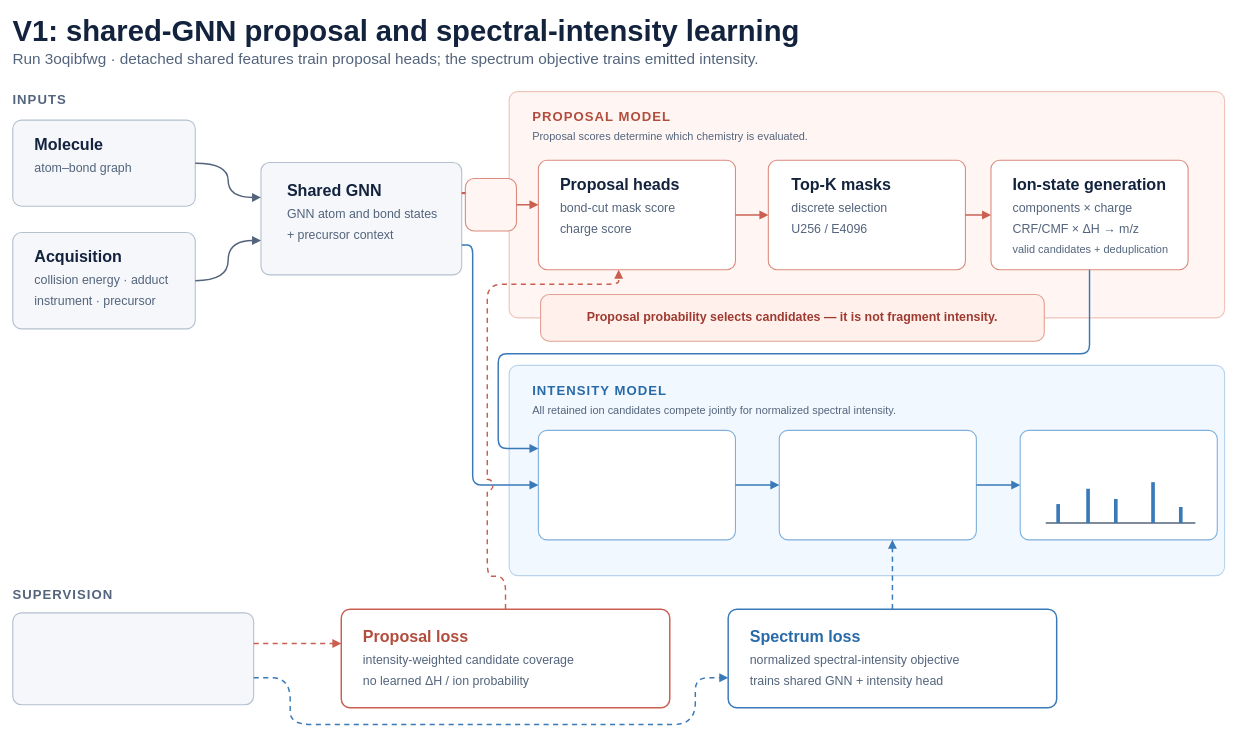
Some shapes in this 1238 by 744 pixel diagram are drawn without their labels. The centre of each missing label's shape, as x and y in pixels:
"Candidate features fragment + ion identity molecule + acquisition context" goes at (x=636, y=484).
"detach features" goes at (x=490, y=204).
"Intensity head candidate set transformer relative-intensity logits" goes at (x=877, y=484).
"Observed spectrum normalized peak intensities matched at instrument tolerance" goes at (x=133, y=658).
"Predicted spectrum Σ intensity = 1" goes at (x=1118, y=484).
